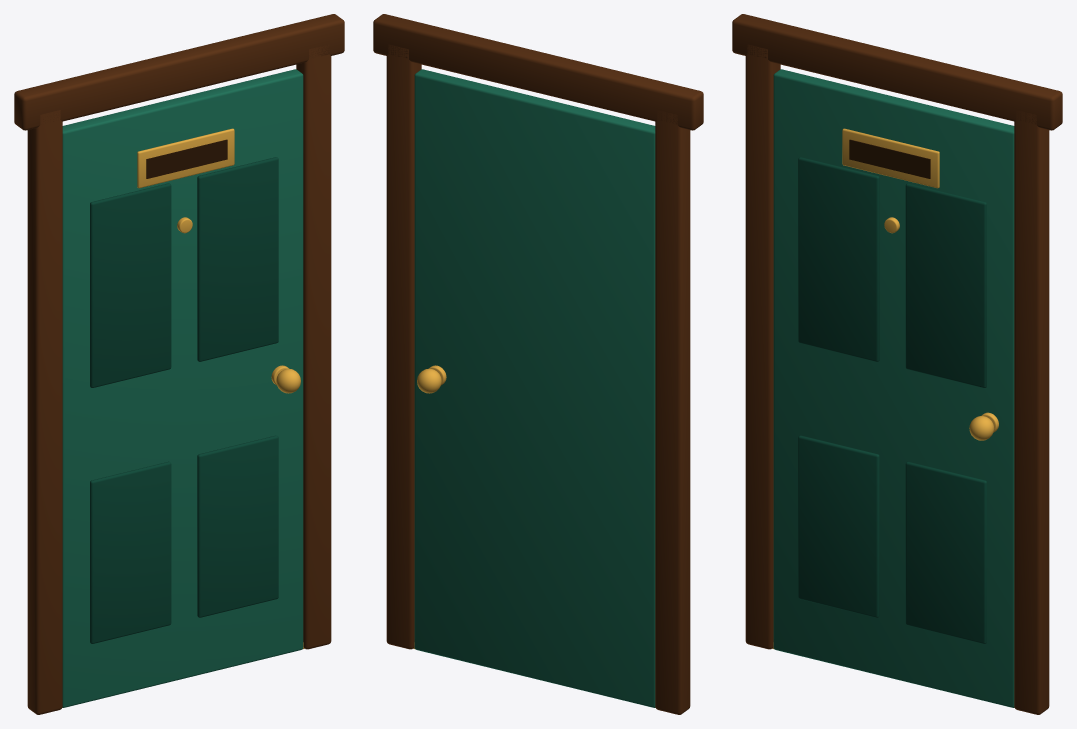
The model's file is door_portal.glb.
3 renders of one model, left to right at view 1: azimuth 30°, elevation 25°; view 2: azimuth 150°, elevation 25°; view 3: azimuth 330°, elevation 25°, orthographic.
Visible parts, largest first — view 1: door_portal_slab, door_portal; view 2: door_portal_slab, door_portal; view 3: door_portal_slab, door_portal.
Part boxes in pixels (x1,y1,x2,y2): door_portal_slab: (62,69,303,707); door_portal: (14,14,344,714); door_portal_slab: (414,69,655,707); door_portal: (373,14,703,714); door_portal_slab: (773,69,1014,707); door_portal: (732,14,1062,714).
Size of the model in its own units: 1.2 by 2.21 by 0.24.
